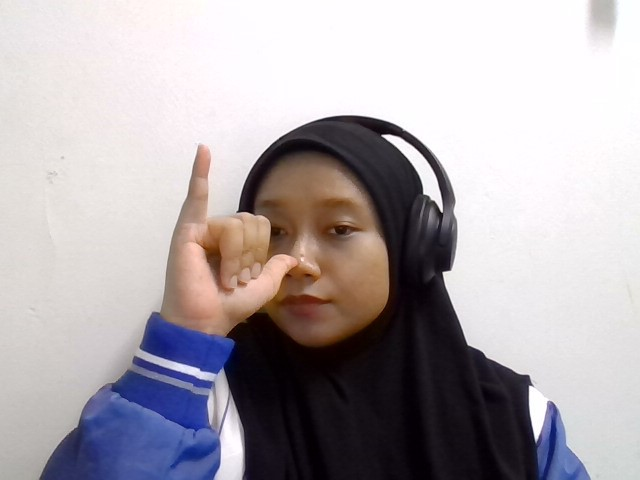BadakSumbu: (164, 143, 334, 324)
